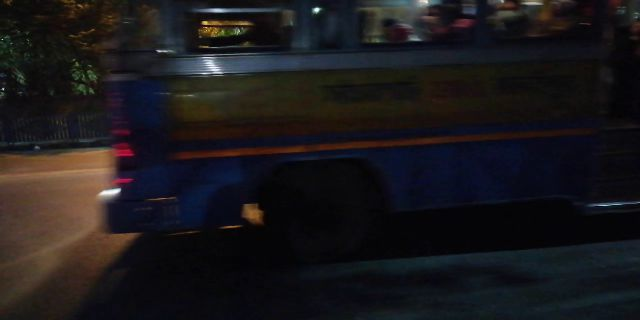Bus: (95, 7, 614, 225)
